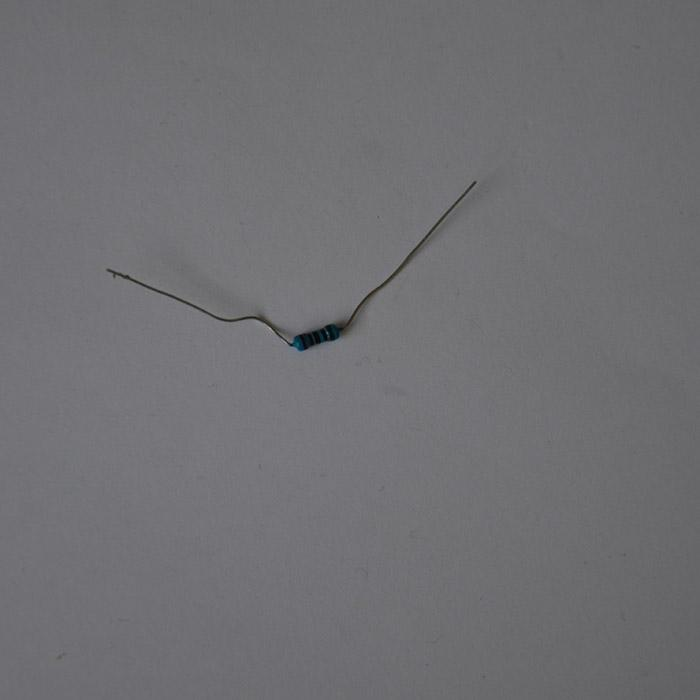resistor: (290, 323, 342, 350)
